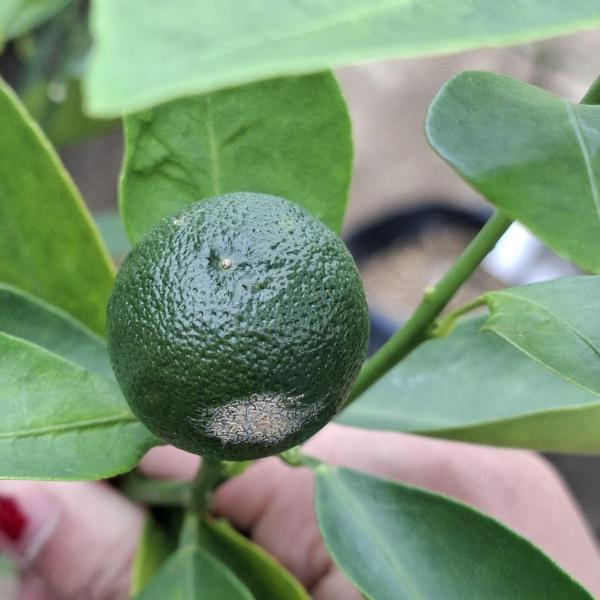Scab: (95, 186, 383, 466)
